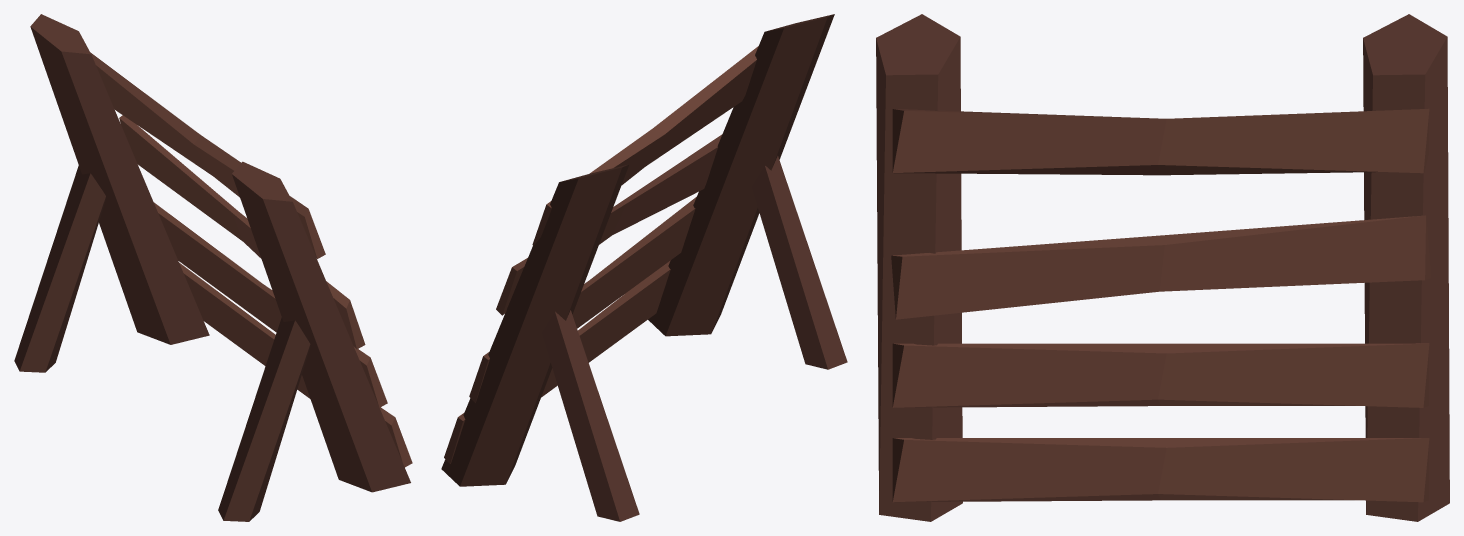
File: barricade_big.fbx
3 renders of one model, left to right at view 1: azimuth 30°, elevation 25°; view 2: azimuth 150°, elevation 25°; view 3: azimuth 270°, elevation 25°, orthographic. The views are drawn at different scales.
Parts seen in each view (by area): view 1: Cylinder.002, Cylinder.001, Cylinder.003, Cylinder.004, Cube.004, Cube.002, Cube.003, Cube.001; view 2: Cylinder.002, Cylinder.001, Cylinder.004, Cylinder.003, Cube.004, Cube.002, Cube.003, Cube.001; view 3: Cube.002, Cube.001, Cube.003, Cube.004, Cylinder.002, Cylinder.001.
Part boxes in pixels (x1,y1,x2,y2): Cylinder.002: (30, 14, 209, 344); Cylinder.001: (232, 161, 410, 492); Cylinder.003: (218, 317, 310, 521); Cylinder.004: (14, 165, 105, 372); Cube.004: (90, 52, 325, 258); Cube.002: (154, 202, 387, 407); Cube.003: (119, 115, 365, 349); Cube.001: (179, 262, 412, 467); Cylinder.002: (441, 164, 629, 486); Cylinder.001: (648, 14, 834, 336); Cylinder.004: (542, 310, 639, 521); Cylinder.003: (752, 156, 847, 369); Cube.004: (532, 46, 758, 245); Cube.002: (469, 197, 696, 402); Cube.003: (496, 134, 722, 315); Cube.001: (444, 260, 670, 463); Cube.002: (892, 343, 1429, 407); Cube.001: (892, 438, 1429, 502); Cube.003: (891, 215, 1430, 319); Cube.004: (892, 108, 1429, 175); Cylinder.002: (1363, 14, 1449, 521); Cylinder.001: (876, 14, 962, 521).
Size of the model in its own units: 271 by 468 by 593.
